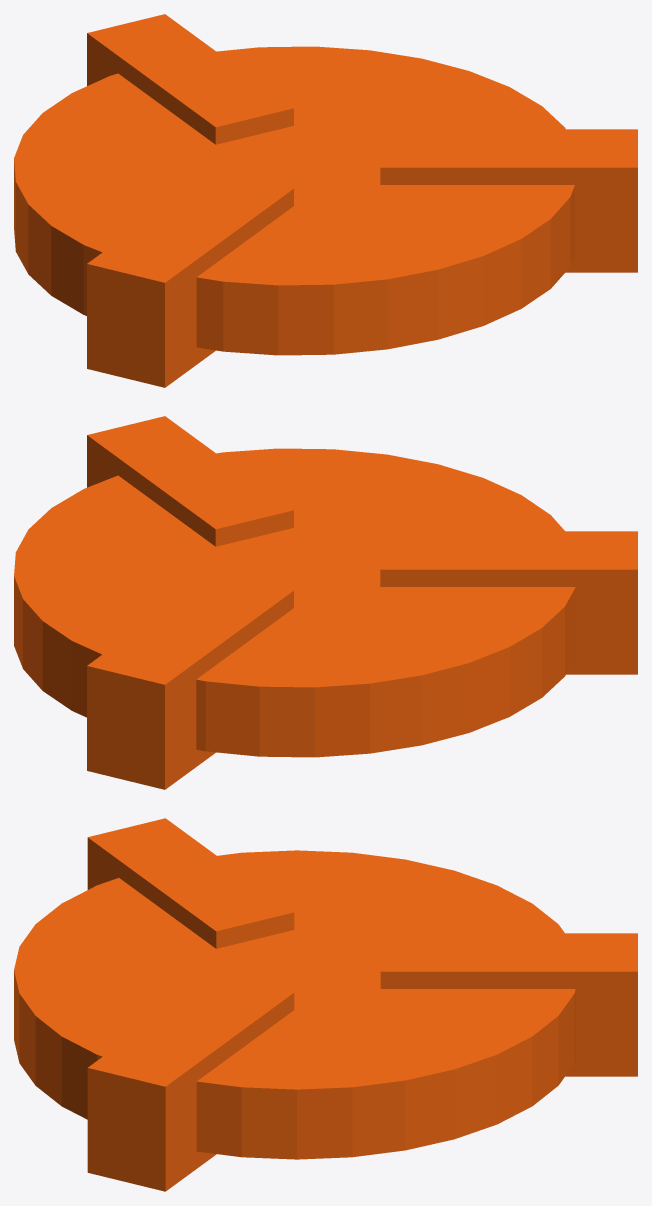
File: MotionReady_Tank_Pump_Impeller.obj
3 renders of one model, top to bottom at view 1: azimuth 30°, elevation 25°; view 2: azimuth 150°, elevation 25°; view 3: azimuth 270°, elevation 25°, orthographic.
Parts seen in each view (by area): view 1: Tank_Pump_Impeller; view 2: Tank_Pump_Impeller; view 3: Tank_Pump_Impeller.
Boxes of the visible parts, bbox=[...] form: Tank_Pump_Impeller: bbox=[14, 14, 637, 387]; Tank_Pump_Impeller: bbox=[14, 416, 637, 789]; Tank_Pump_Impeller: bbox=[14, 818, 637, 1191].
Size of the model in its own units: 98.8 by 18 by 97.
